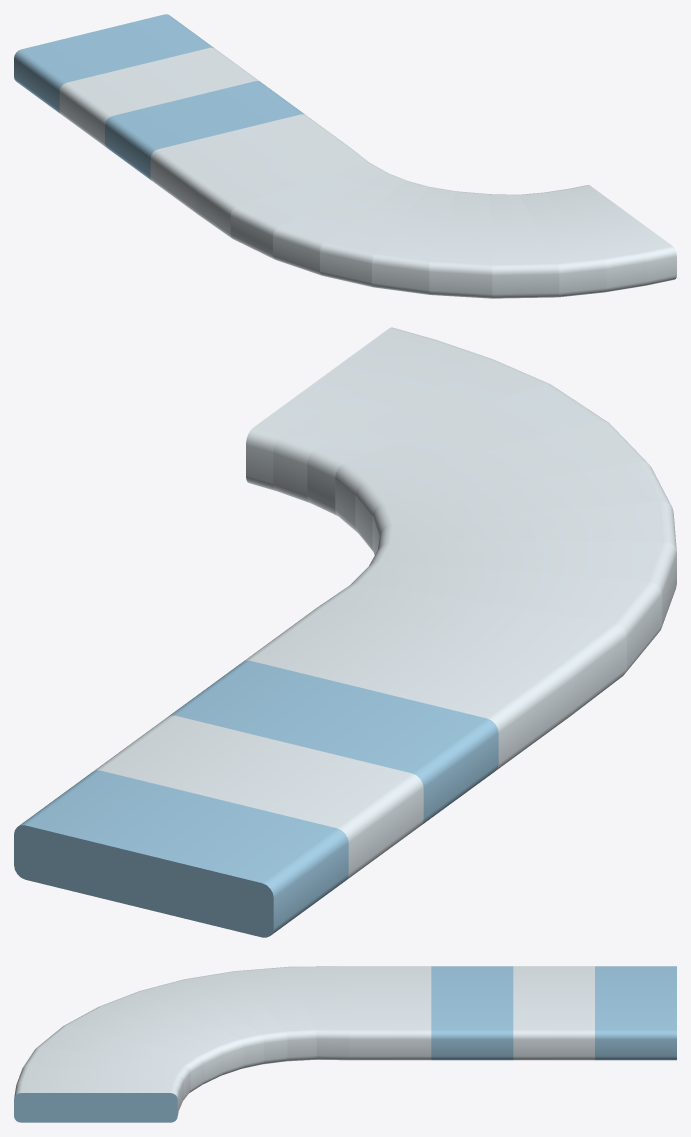
The model's file is PlatformTurn.fbx.
3 views of the same model, one above another, from view 1: azimuth 30°, elevation 25°; view 2: azimuth 150°, elevation 25°; view 3: azimuth 270°, elevation 25° (orthographic). The views are drawn at different scales.
Parts seen in each view (by area): view 1: Cube; view 2: Cube; view 3: Cube.
Part boxes in pixels (left/top/right/bottom): Cube: left=14, top=14, right=676, bottom=298; Cube: left=14, top=327, right=676, bottom=937; Cube: left=14, top=966, right=676, bottom=1122.
Size of the model in its own units: 934 by 100 by 2024.
